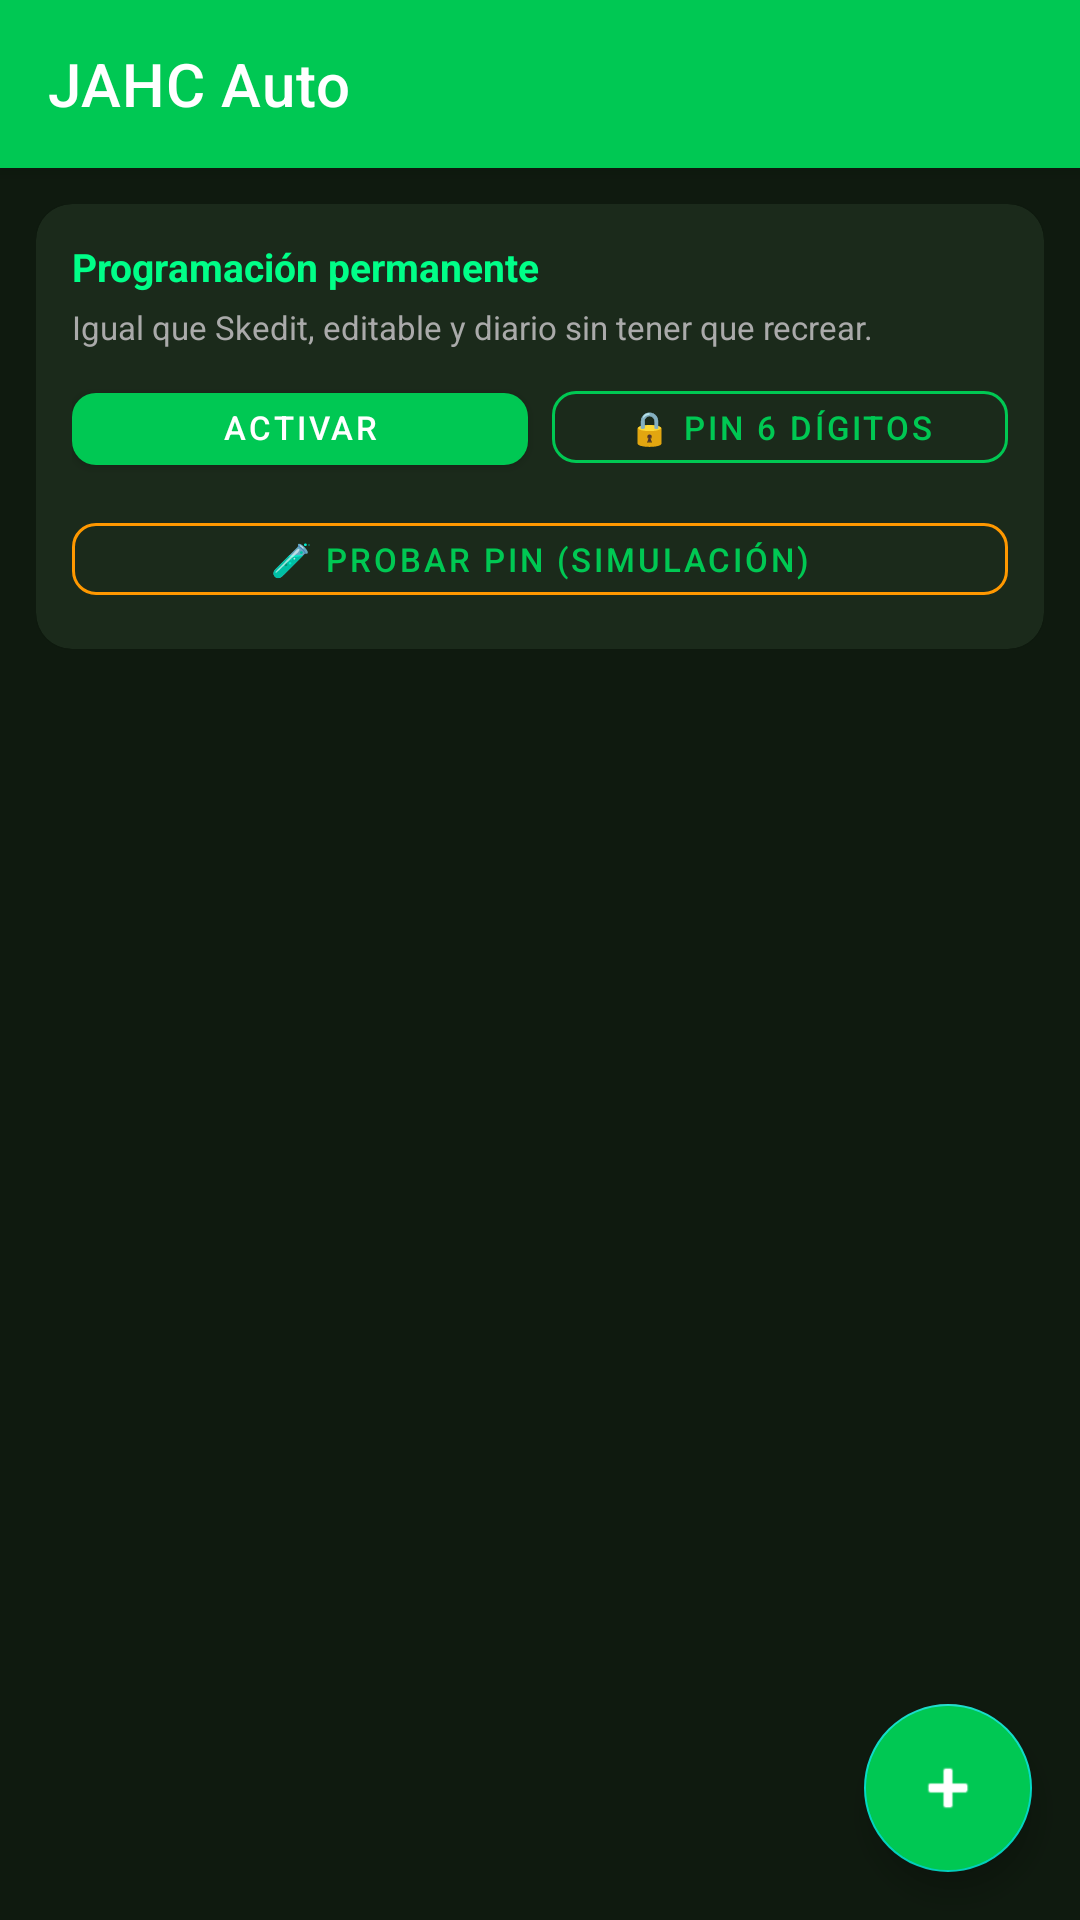

Screen size 1080x1920. Icon name, then its center in pixels as (x,y):
Nuevo: (948,1788)
